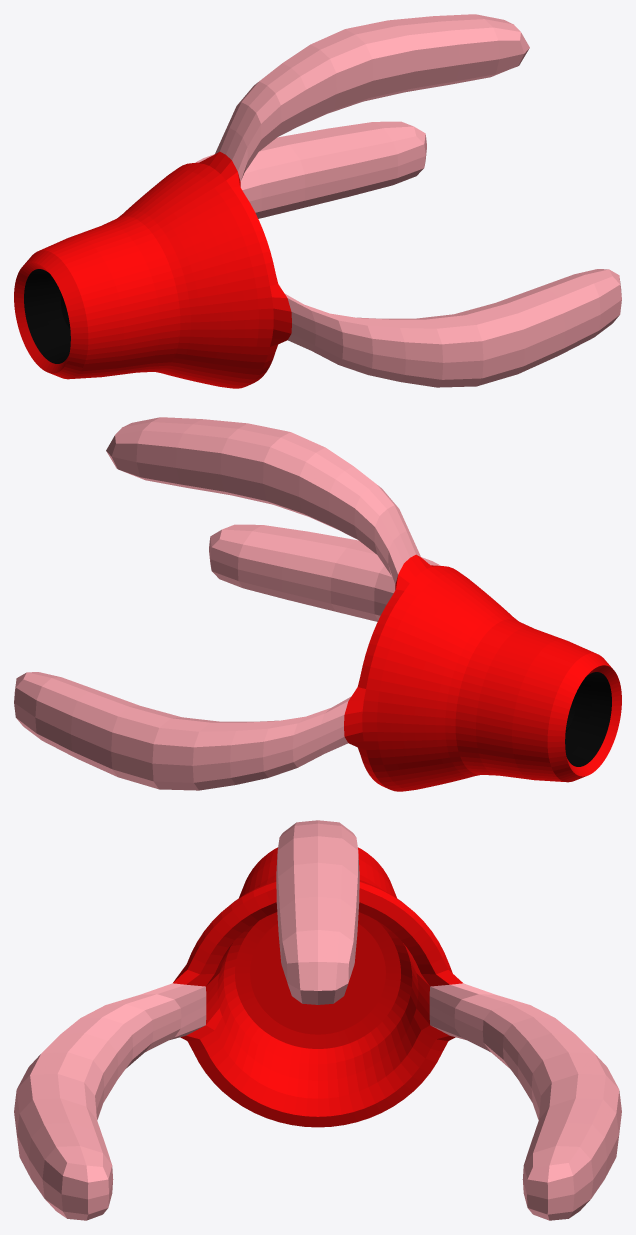
File: EnemyWeapon5.fbx
3 renders of one model, top to bottom at view 1: azimuth 30°, elevation 25°; view 2: azimuth 150°, elevation 25°; view 3: azimuth 270°, elevation 25°, orthographic. The views are drawn at different scales.
Parts seen in each view (by area): view 1: Cylinder; view 2: Cylinder; view 3: Cylinder.
Part boxes in pixels (bbox=[...]): Cylinder: bbox=[14, 14, 621, 388]; Cylinder: bbox=[14, 417, 621, 791]; Cylinder: bbox=[14, 820, 621, 1220].
Bounding box in the file's own units: 802 × 496 × 739.
